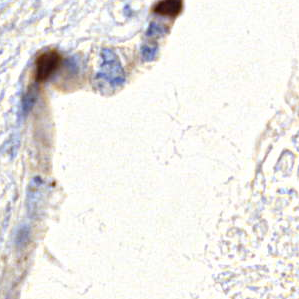Lymphocyte: (34, 44, 62, 86)
